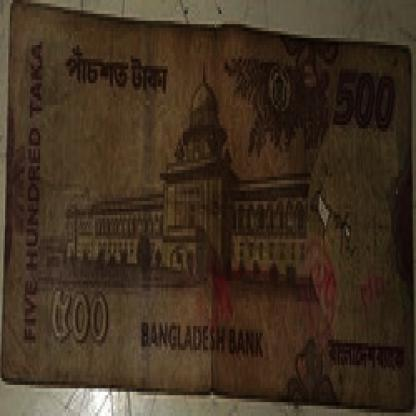500 taka: (45, 31, 193, 139), (321, 52, 401, 159)
currency: (0, 3, 415, 399)
